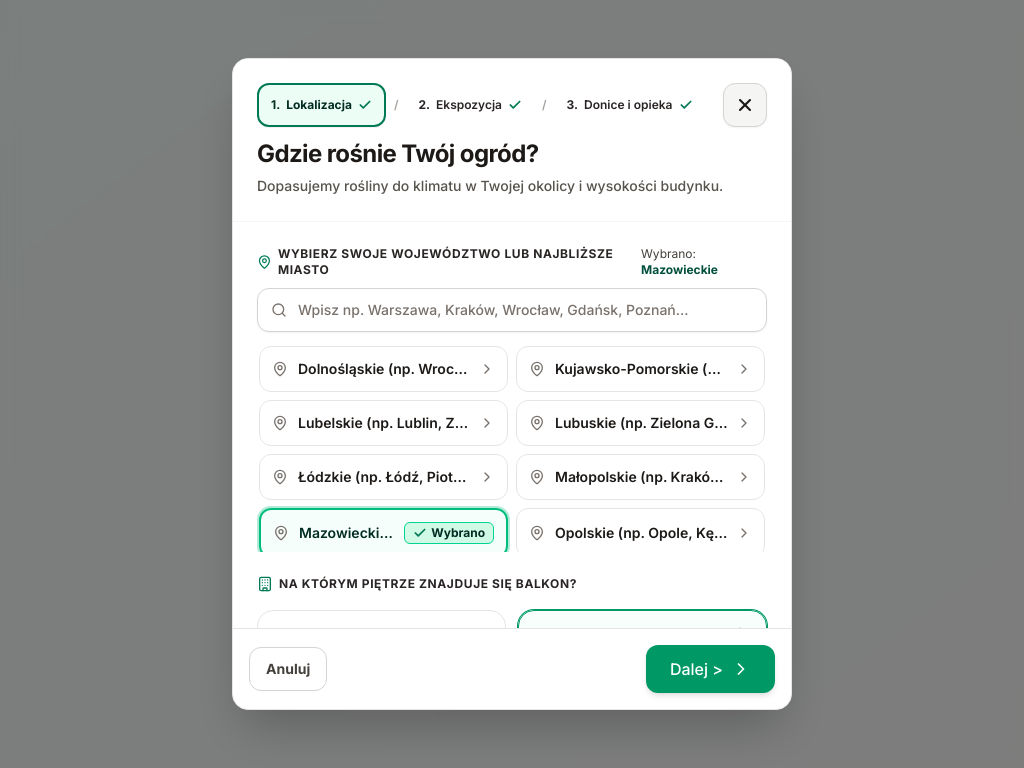
Test: BalconySetupModal - Onboarding Modal DOM Synchronization & Testability › converts pot dimensions (60, 20, 18) to 21.6 L and strictly renders "Obliczona pojemność: 21.6 l" without hyphen or dash
Note: Navigate to Step 2
Click the button with test id "onboarding-next-button".
click(710, 669)  # box [646,645,775,693]
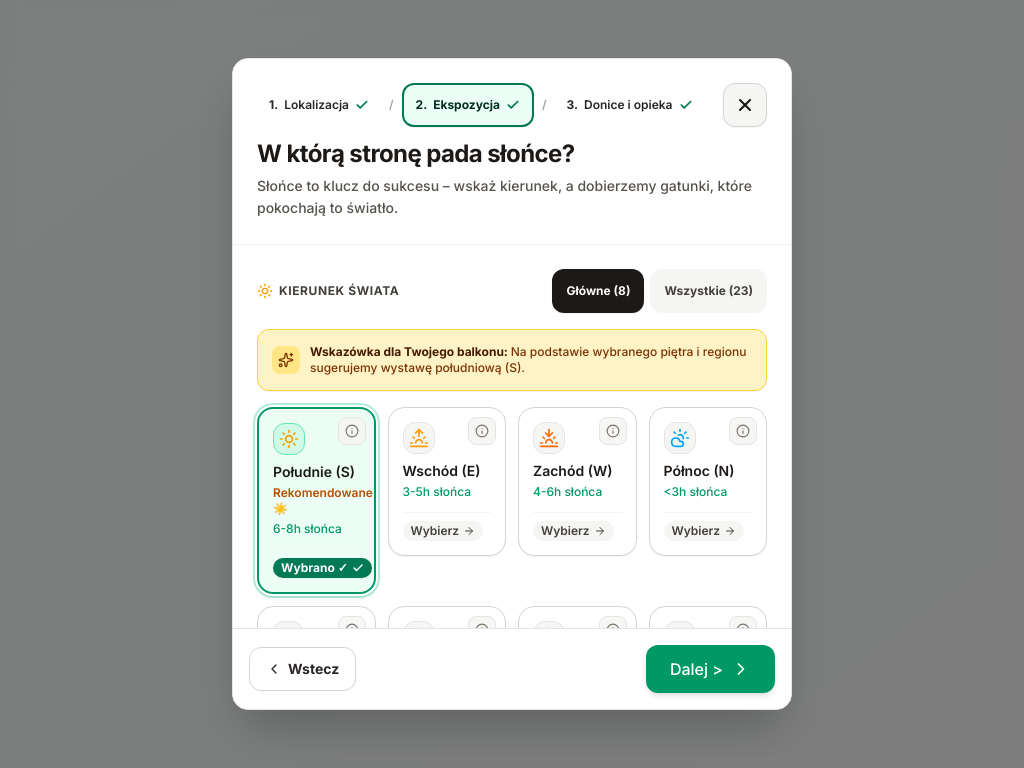
Note: In Step 2, click Next to navigate to Step 3
Click the button with test id "onboarding-next-button".
click(710, 669)  # box [646,645,775,693]
(page scrolled)
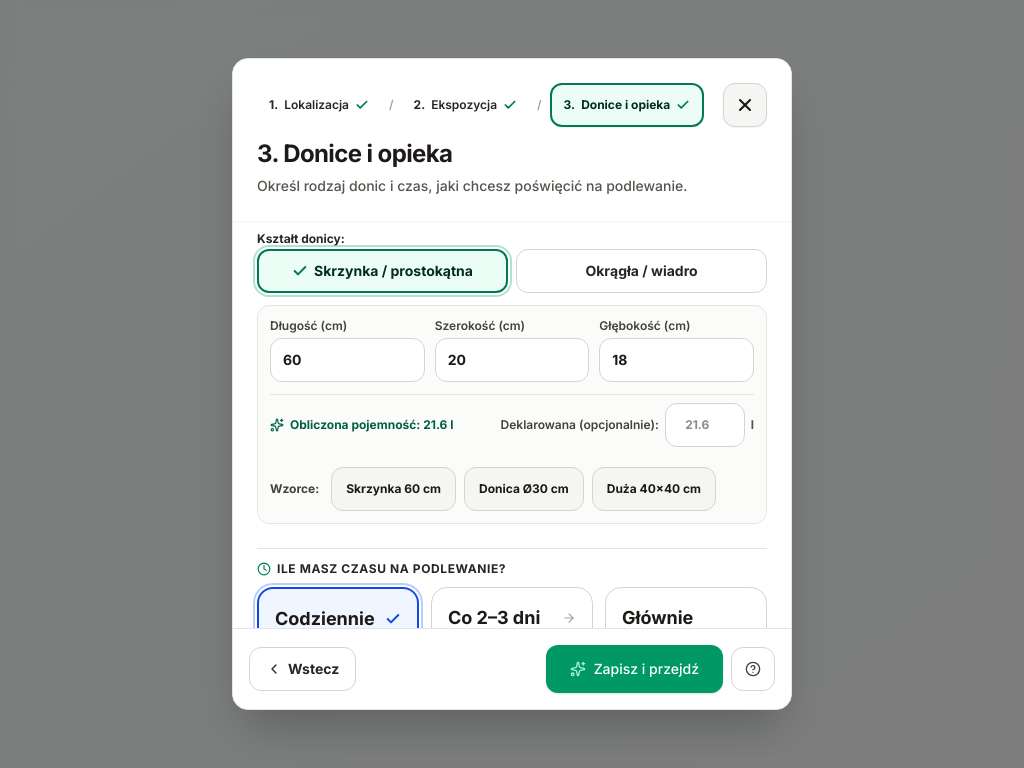
Now the element with test id "calculated-pot-volume" is shown, box [270,417,453,433]
Now the element with test id "calculated-pot-volume" reads "Obliczona pojemność: 21.6 l", box [290,417,453,432]
